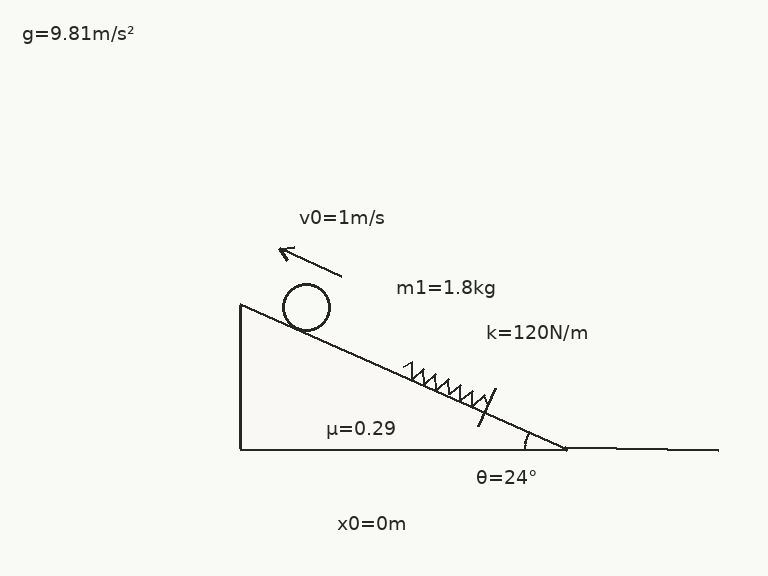ball: (280, 281, 332, 333)
ramp: (238, 302, 567, 451)
spring: (401, 361, 489, 408)
